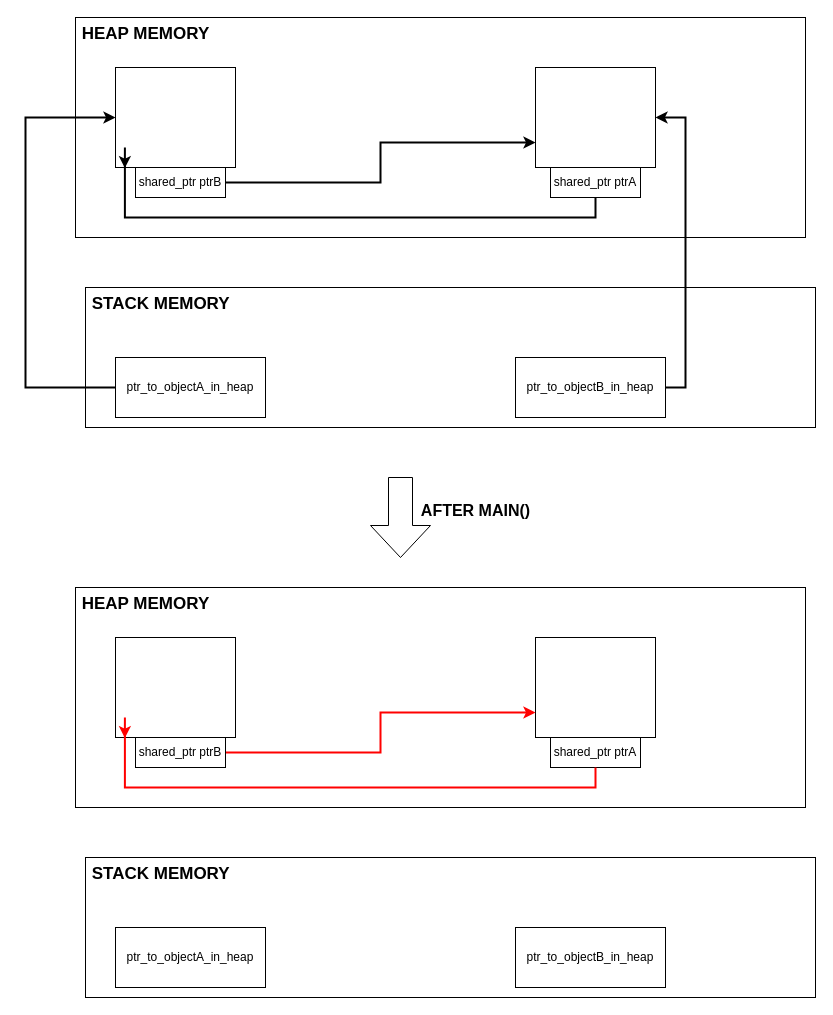
Some shapes in this 833 by 1015 pixel diagram are drawn without their labels. The centre of each missing label's shape, as x and y in pixels:
"mem_block_A ref_count = 1" belongs at [175,687].
"mem_block_A ref_count = 2" belongs at [175,117].
"mem_block_B ref_count = 1" belongs at [595,687].
"mem_block_B ref_count = 2" belongs at [595,117].
